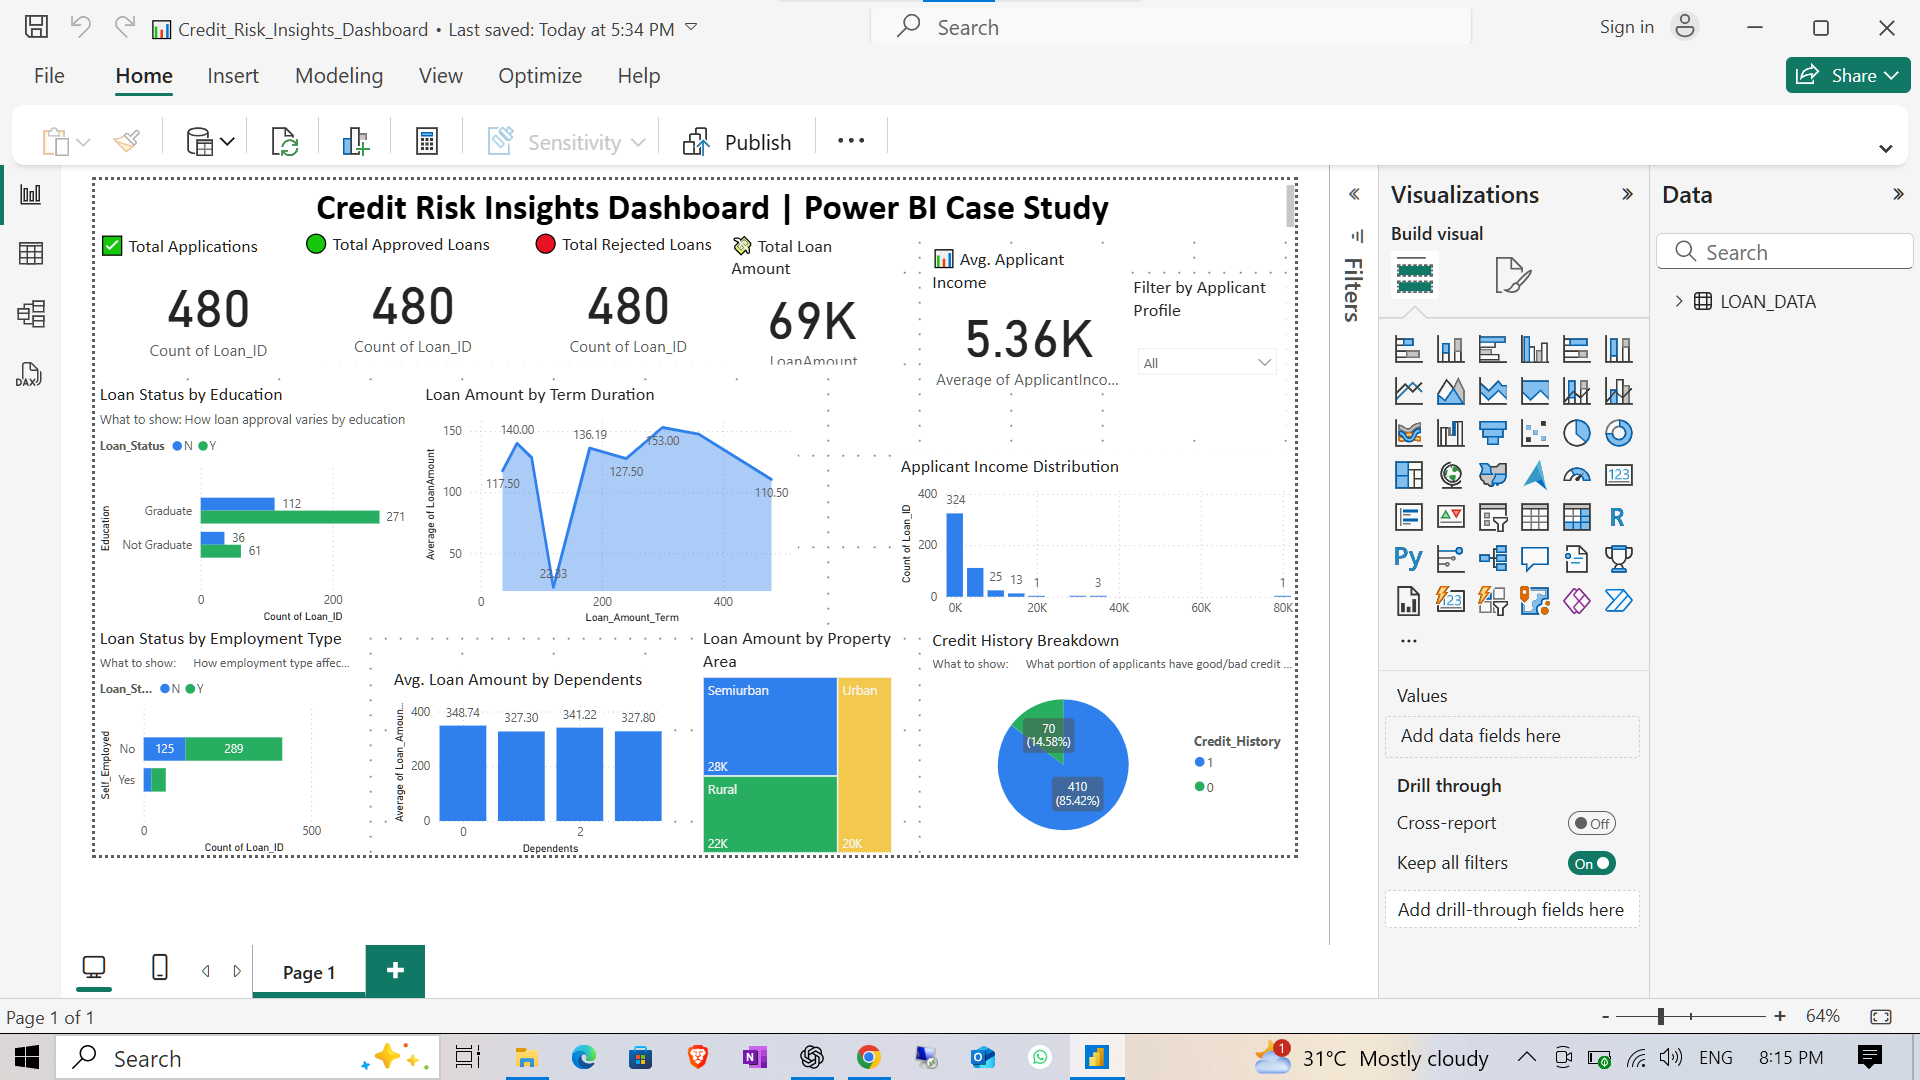

What the dashboard file says about the page in this screenshot:
{"tool":"powerbi","page":{"name":"Page 1","canvas":[1280,720],"ordinal":0},"visuals":[{"type":"card","title":"✅ Total Applications","fields":{"Values":["CountNonNull(LOAN_DATA.Loan_ID)"]},"box":[0,54.4,234.8,141.5],"z":0},{"type":"card","title":"🟢 Total Approved Loans","fields":{"Values":["CountNonNull(LOAN_DATA.Loan_ID)"]},"box":[211.4,52.9,236.3,138.4],"z":1000},{"type":"card","title":"🔴 Total Rejected Loans","fields":{"Values":["CountNonNull(LOAN_DATA.Loan_ID)"]},"box":[447.7,52.9,206.8,138.4],"z":2000},{"type":"textbox","box":[0,0,1245.3,54.4],"z":3000},{"type":"card","title":"💸 Total Loan Amount","fields":{"Values":["Sum(LOAN_DATA.LoanAmount)"]},"box":[653,54.4,175.7,141.5],"z":4000},{"type":"card","title":" 📊 Avg. Applicant Income","fields":{"Values":["Avg(LOAN_DATA.ApplicantIncome)"]},"box":[861.3,68.4,206.8,150.8],"z":5000},{"type":"clusteredBarChart","title":"Loan Status by Education","fields":{"Category":["LOAN_DATA.Education"],"Y":["CountNonNull(LOAN_DATA.Loan_ID)"],"Series":["LOAN_DATA.Loan_Status"]},"box":[0,210.1,335.5,252.4],"z":6000},{"type":"barChart","title":"Loan Status by Employment Type","fields":{"Category":["LOAN_DATA.Self_Employed"],"Y":["CountNonNull(LOAN_DATA.Loan_ID)"],"Series":["LOAN_DATA.Loan_Status"]},"box":[0,462.6,272.8,238.3],"z":7000},{"type":"pieChart","title":"Credit History Breakdown","fields":{"Category":["LOAN_DATA.Credit_History"],"Y":["CountNonNull(LOAN_DATA.Loan_ID)"]},"box":[861.3,463.3,385.6,237.9],"z":8000},{"type":"columnChart","title":"Applicant Income Distribution","fields":{"Y":["CountNonNull(LOAN_DATA.Loan_ID)"],"Category":["LOAN_DATA.ApplicantIncome (bins)"]},"box":[828.6,284.5,416.6,177.2],"z":9000},{"type":"clusteredColumnChart","title":"Avg. Loan Amount by Dependents","fields":{"Category":["LOAN_DATA.Dependents"],"Y":["Avg(LOAN_DATA.Loan_Amount_Term)"]},"box":[304.2,503.3,286.9,197.6],"z":10000},{"type":"treemap","title":"Loan Amount by Property Area","fields":{"Values":["Sum(LOAN_DATA.LoanAmount)"],"Group":["LOAN_DATA.Property_Area"]},"box":[624.1,462.6,205.4,238.3],"z":11000},{"type":"areaChart","title":"Loan Amount by Term Duration","fields":{"Category":["LOAN_DATA.Loan_Amount_Term"],"Y":["Avg(LOAN_DATA.LoanAmount)"]},"box":[335.8,209.9,390.2,253.4],"z":12000},{"type":"slicer","title":" Filter by Applicant Profile","fields":{"Values":["LOAN_DATA.Gender","LOAN_DATA.Property_Area","LOAN_DATA.Credit_History","LOAN_DATA.Education","LOAN_DATA.Self_Employed","LOAN_DATA.Married"]},"box":[1068,99.5,163.2,169.5],"z":13000}]}

Visuals, with their boxes on the page's 1280x720 design canvas (x1, y1, x2, y2). These are canvas units, not pixel positions in the 1920x1080 screenshot, which may show the page scaled, cropped or inside an application window:
"✅ Total Applications" card: {"x1": 0, "y1": 54, "x2": 235, "y2": 196}
"🟢 Total Approved Loans" card: {"x1": 211, "y1": 53, "x2": 448, "y2": 191}
"🔴 Total Rejected Loans" card: {"x1": 448, "y1": 53, "x2": 654, "y2": 191}
textbox: {"x1": 0, "y1": 0, "x2": 1245, "y2": 54}
"💸 Total Loan Amount" card: {"x1": 653, "y1": 54, "x2": 829, "y2": 196}
" 📊 Avg. Applicant Income" card: {"x1": 861, "y1": 68, "x2": 1068, "y2": 219}
"Loan Status by Education" clusteredBarChart: {"x1": 0, "y1": 210, "x2": 336, "y2": 462}
"Loan Status by Employment Type" barChart: {"x1": 0, "y1": 463, "x2": 273, "y2": 701}
"Credit History Breakdown" pieChart: {"x1": 861, "y1": 463, "x2": 1247, "y2": 701}
"Applicant Income Distribution" columnChart: {"x1": 829, "y1": 284, "x2": 1245, "y2": 462}
"Avg. Loan Amount by Dependents" clusteredColumnChart: {"x1": 304, "y1": 503, "x2": 591, "y2": 701}
"Loan Amount by Property Area" treemap: {"x1": 624, "y1": 463, "x2": 830, "y2": 701}
"Loan Amount by Term Duration" areaChart: {"x1": 336, "y1": 210, "x2": 726, "y2": 463}
" Filter by Applicant Profile" slicer: {"x1": 1068, "y1": 100, "x2": 1231, "y2": 269}
